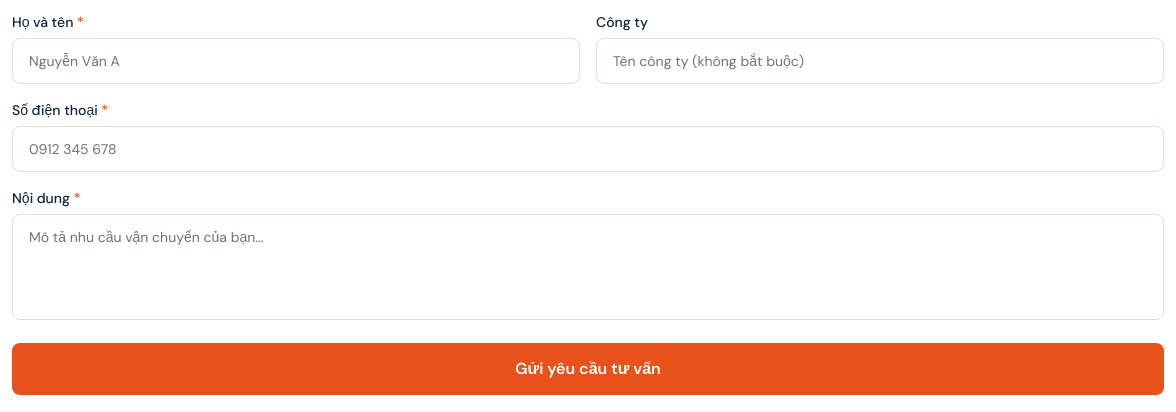
Test case: ContactForm — submission › shows success message after valid submit
The image size is (1176, 412).
Type "Nguyễn Văn Test" into the field labelled "Họ và tên *" at {"x": 296, "y": 61}, box 12,38 -> 580,84
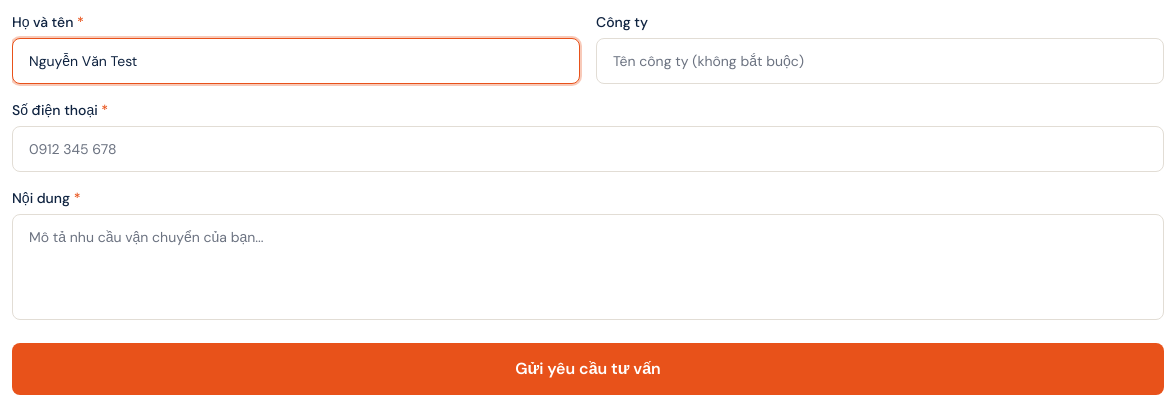
Type "0912345678" into the field labelled "Số điện thoại *" at {"x": 588, "y": 149}, box 12,126 -> 1164,172
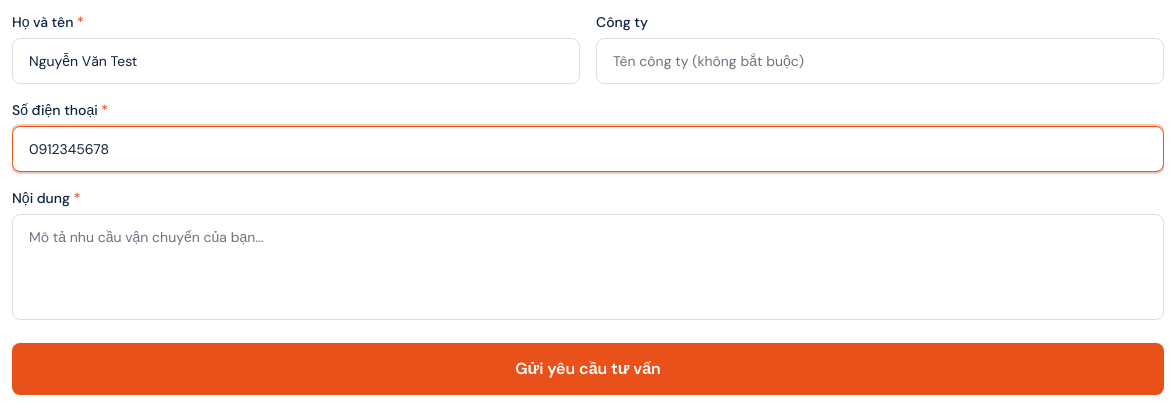
Type "Tôi cần tư vấn dịch vụ vận chuyển VLXD." into the text box labelled "Nội dung *" at {"x": 588, "y": 267}, box 12,214 -> 1164,320
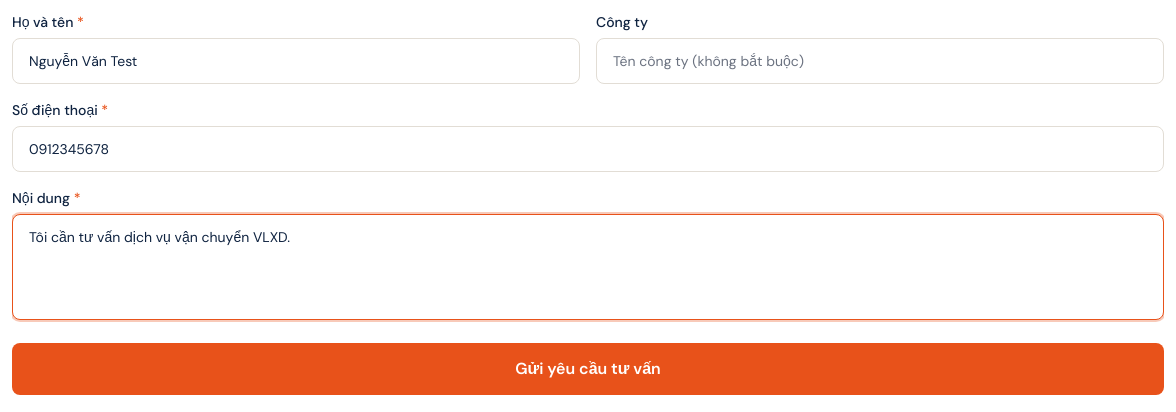
Click the button "Gửi yêu cầu tư vấn" at {"x": 588, "y": 369}, box 12,343 -> 1164,395
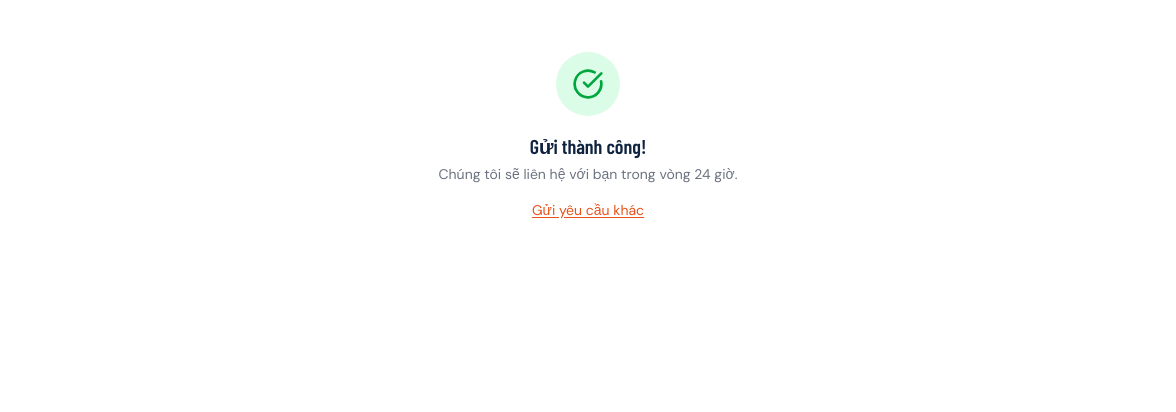
Now the heading "Gửi thành công!" is shown, box 530,134 -> 646,158
